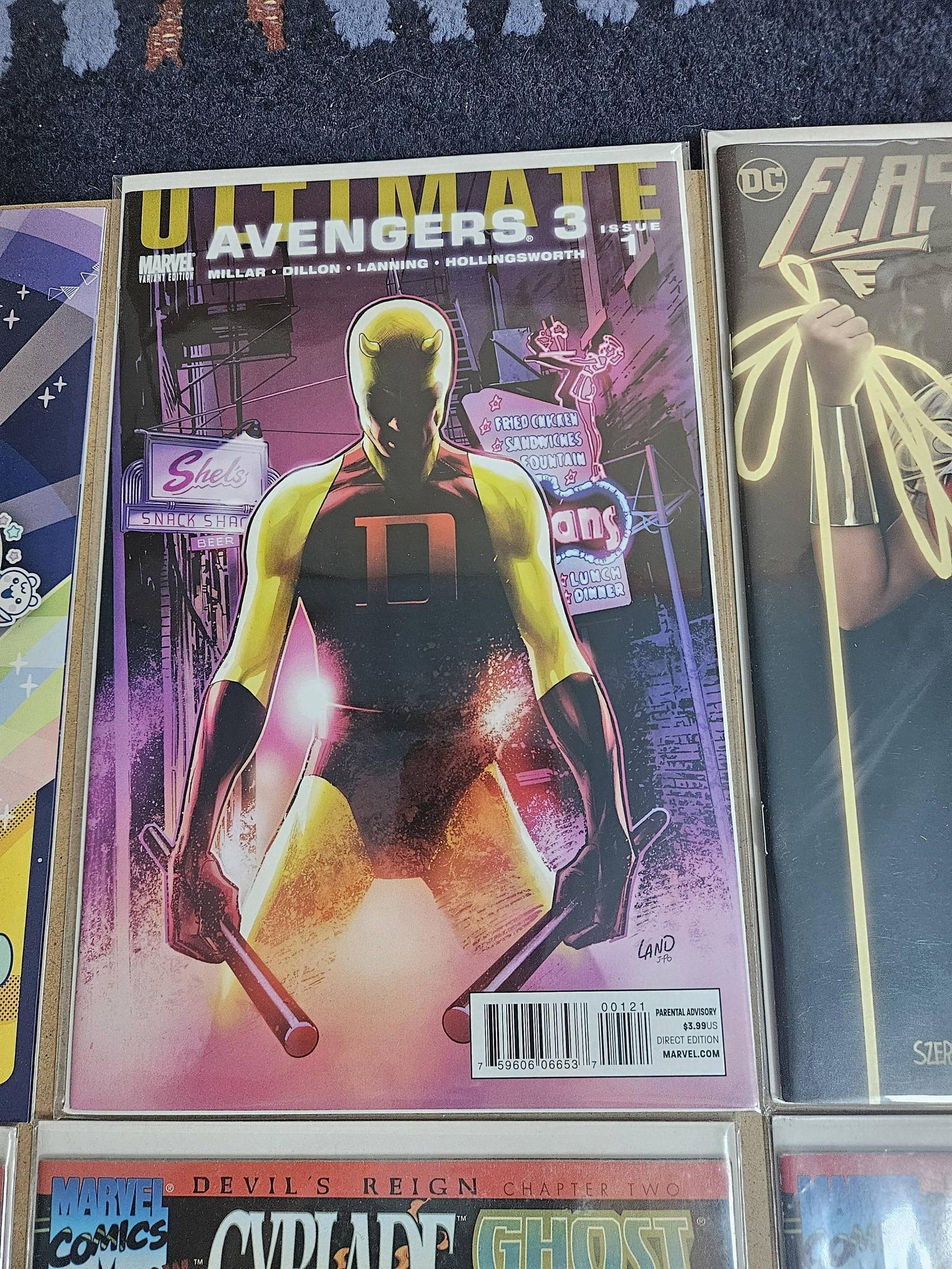comic: (12, 143, 754, 1145)
